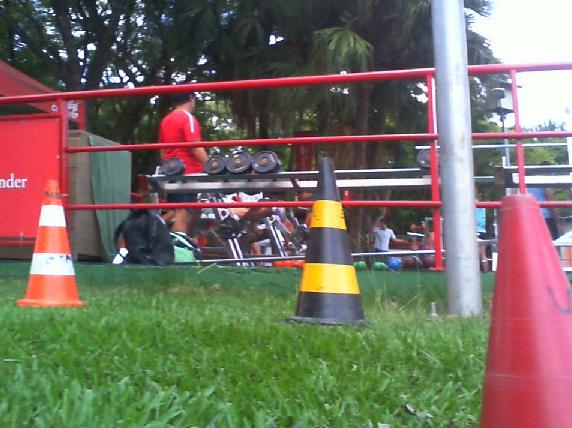0 cone: (479, 194, 572, 428), (283, 157, 377, 327), (17, 178, 93, 306)
